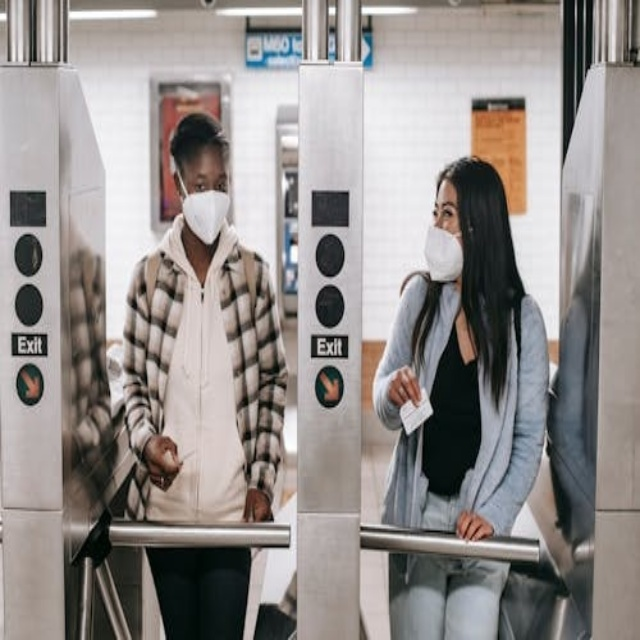Mascara: (178, 179, 232, 245), (423, 223, 464, 282)
Sin_gafas: (188, 167, 233, 192), (431, 198, 456, 225)
Sin_guantes: (143, 423, 182, 492), (237, 480, 273, 530), (454, 505, 495, 546), (388, 363, 424, 409)
